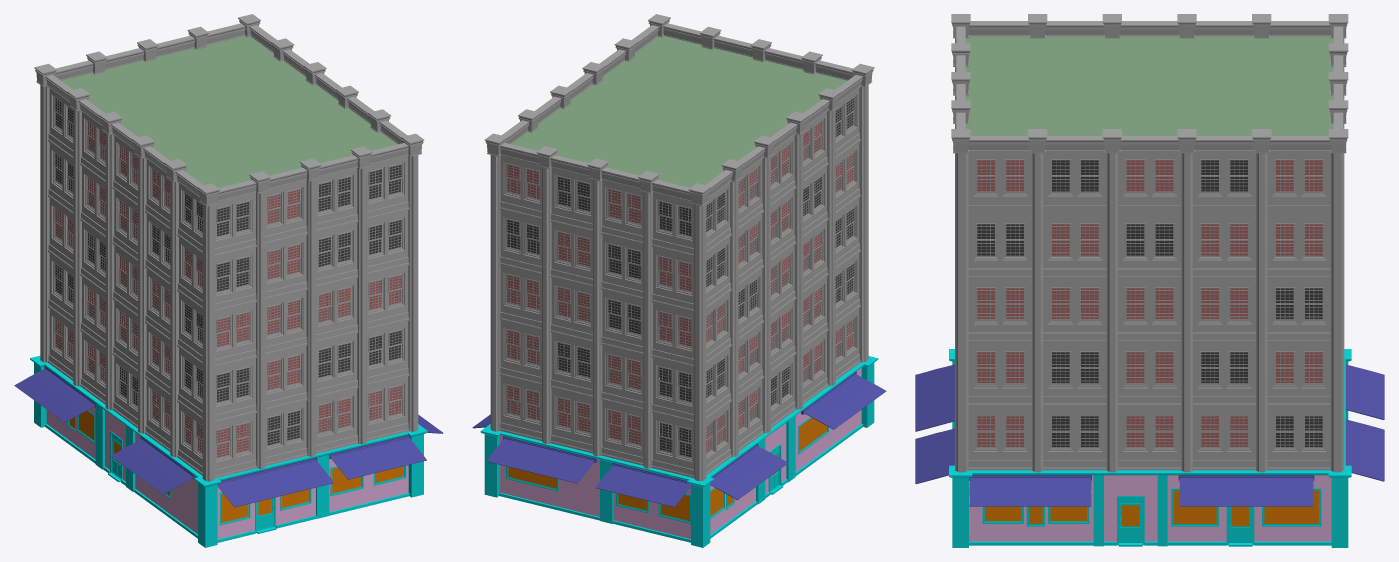
Rendered from SM_Building_03.fbx.
3 views of the same model, side by side, from view 1: azimuth 30°, elevation 25°; view 2: azimuth 150°, elevation 25°; view 3: azimuth 270°, elevation 25° (orthographic). The views are drawn at different scales.
Visible parts, largest first — view 1: SM_Building_03; view 2: SM_Building_03; view 3: SM_Building_03.
Boxes of the visible parts, <box> form: SM_Building_03: <box>14,14,443,547</box>; SM_Building_03: <box>472,14,886,547</box>; SM_Building_03: <box>915,14,1384,547</box>.
Bounding box in the file's own units: 1520 × 1888 × 1956.
